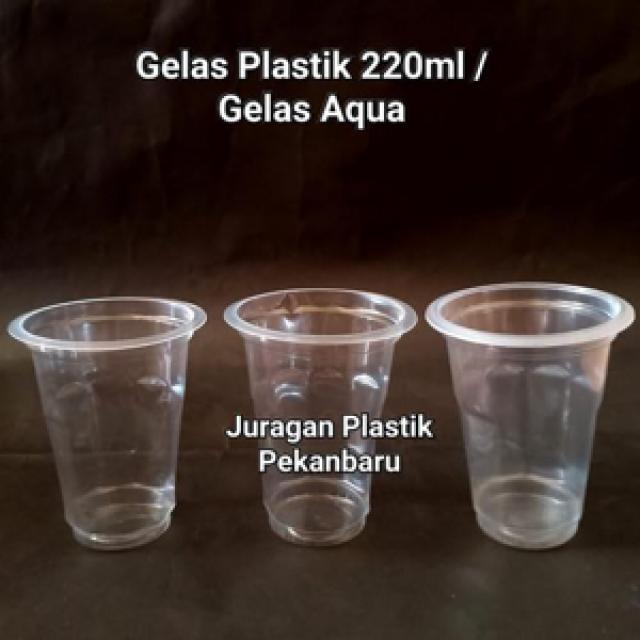plastic cup: (420, 278, 640, 552), (2, 288, 216, 553), (220, 282, 422, 552)
